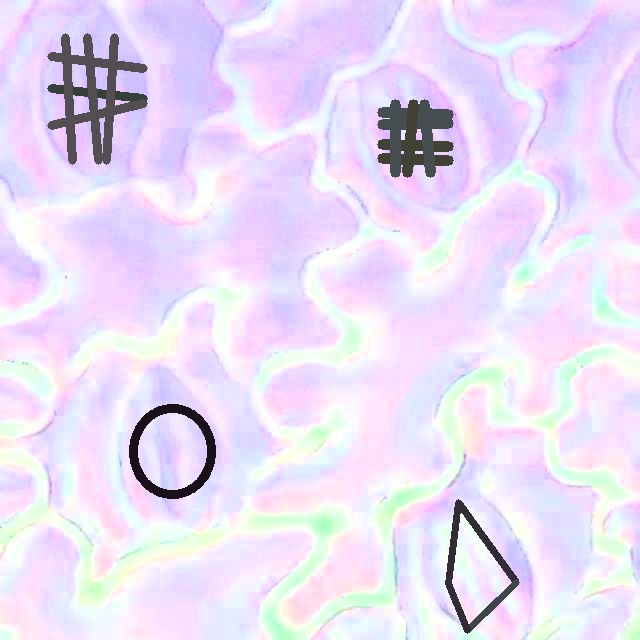open: (47, 33, 147, 164), (445, 499, 518, 633), (128, 403, 216, 500), (378, 99, 453, 177)
